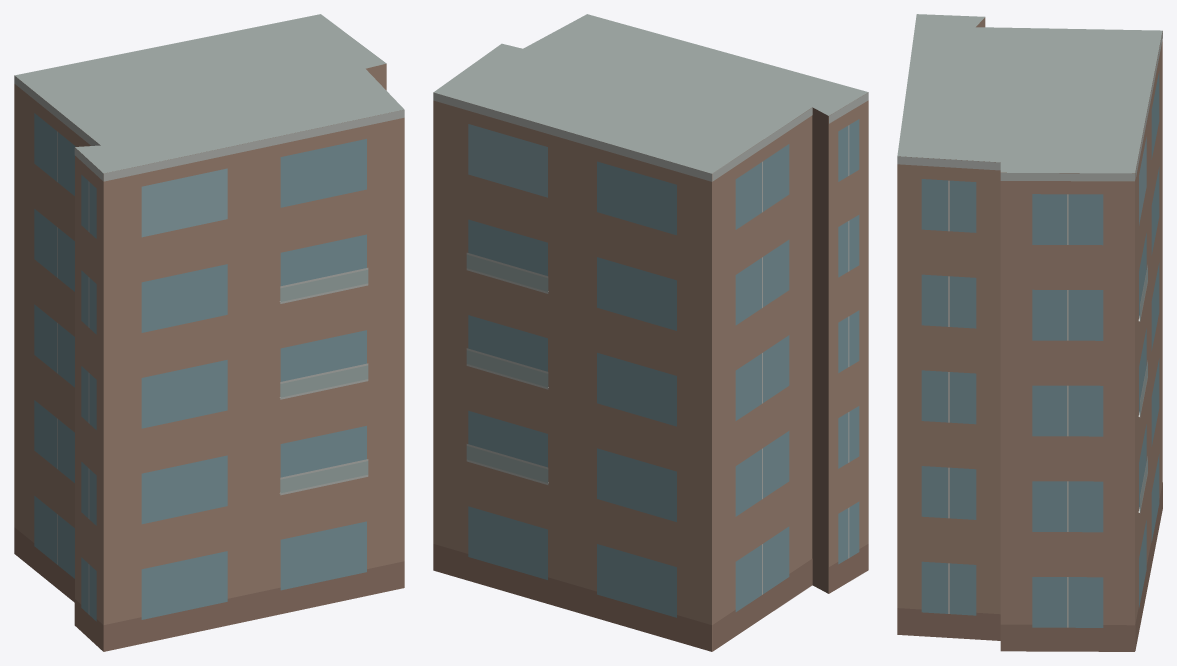
File: survey-upis-32753474.glb
The picture shows the model from 3 angles, left to right: view 1: azimuth 30°, elevation 25°; view 2: azimuth 150°, elevation 25°; view 3: azimuth 270°, elevation 25°; orthographic projection.
Parts seen in each view (by area): view 1: survey-upis-32753474.tmp; view 2: survey-upis-32753474.tmp; view 3: survey-upis-32753474.tmp.
Boxes of the visible parts, x1,y1,x2,y2 form: survey-upis-32753474.tmp: [14, 14, 404, 651]; survey-upis-32753474.tmp: [433, 14, 868, 651]; survey-upis-32753474.tmp: [897, 14, 1162, 651].
Size of the model in its own units: 10.33 by 14.45 by 7.27.
